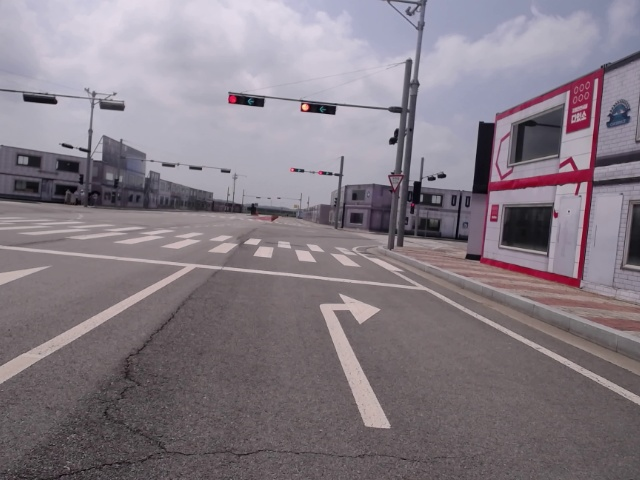left_green_4: (228, 94, 263, 108), (302, 103, 335, 115)
